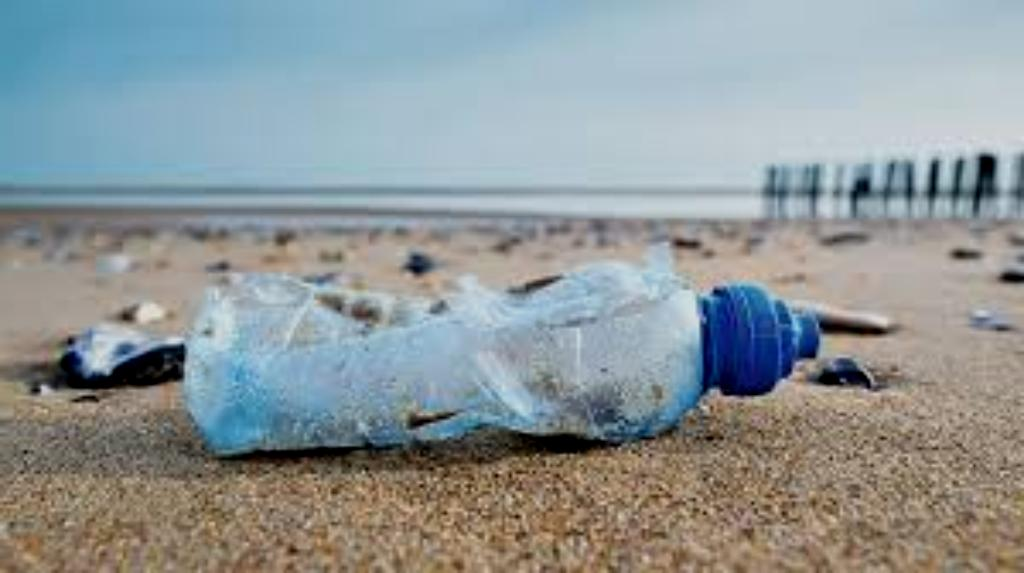garbage: (166, 256, 831, 461)
